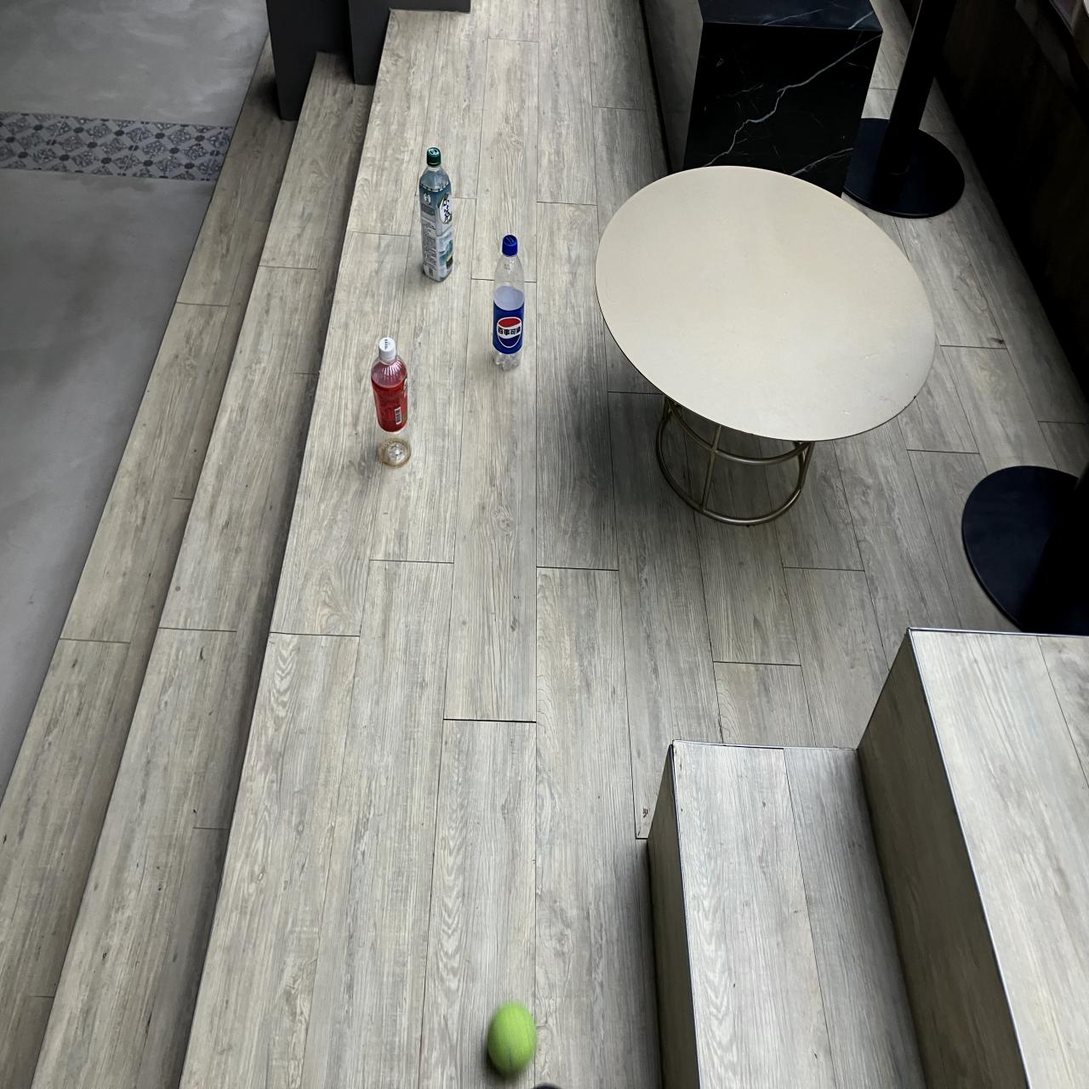plastic-bottle: (419, 148, 453, 281), (493, 235, 524, 369), (371, 337, 408, 431)
tennisball: (487, 1002, 536, 1076)
